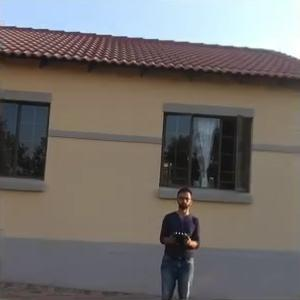follow: (154, 182, 204, 298)
